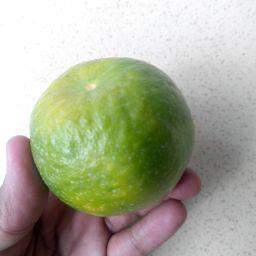Ripe: (29, 57, 199, 217)
